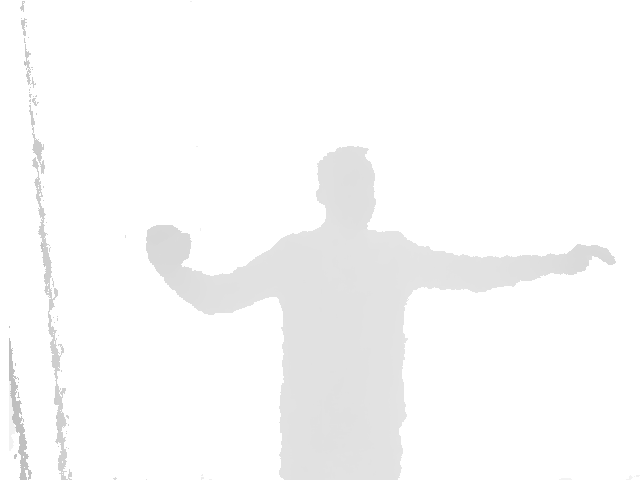head: (315, 145, 377, 229)
person: (145, 144, 617, 480)
